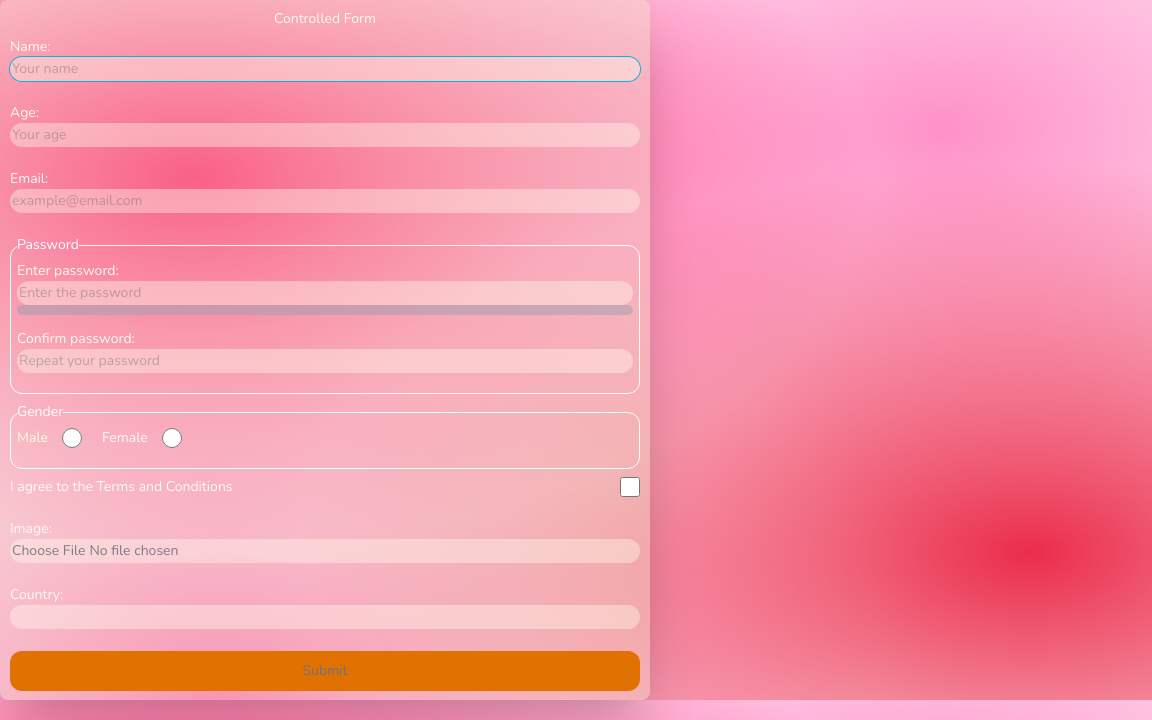
Test: Controlled form tests › should validate age field when there is a letter in the input
The width and height of the screenshot is (1152, 720).
Type "a" into the field labelled "Age:".
click(325, 135); type("a")  # box [10,123,640,147]
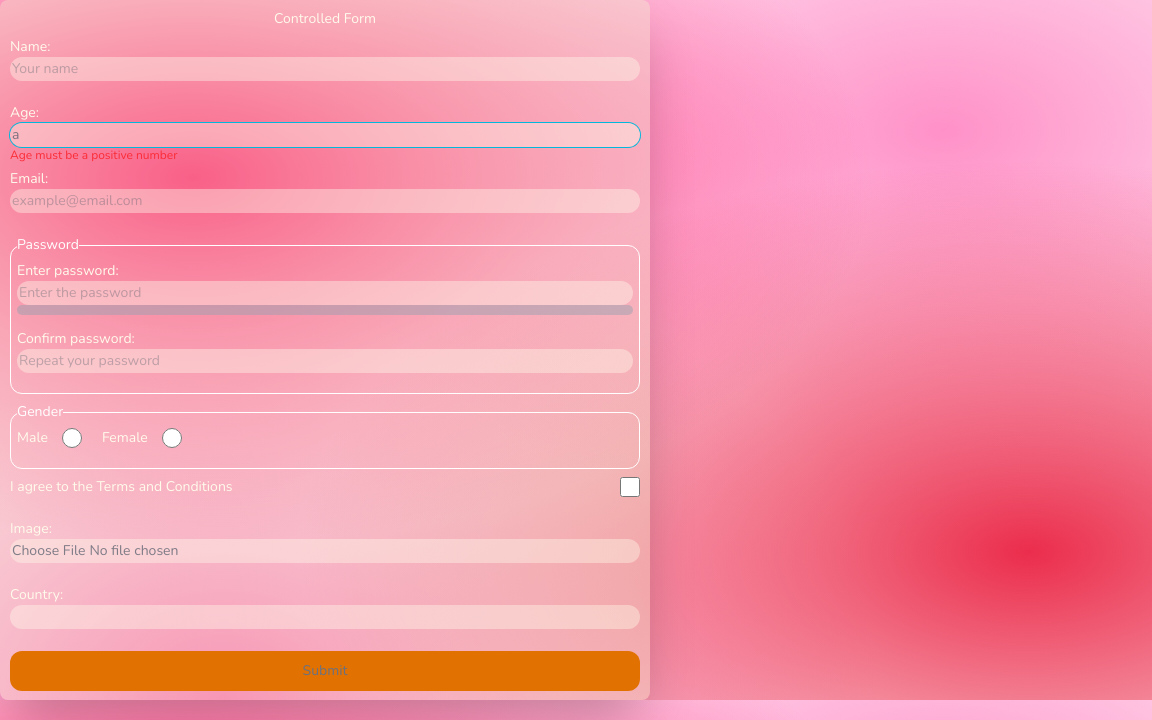
Now the text "Age must be a positive number" is shown, box [10,147,178,163]
